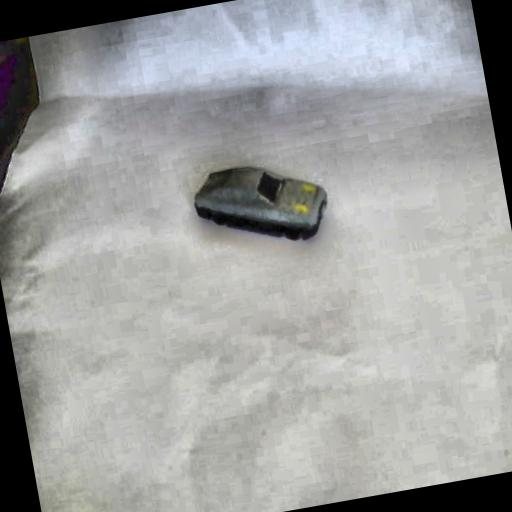normal_car: (180, 144, 337, 267)
